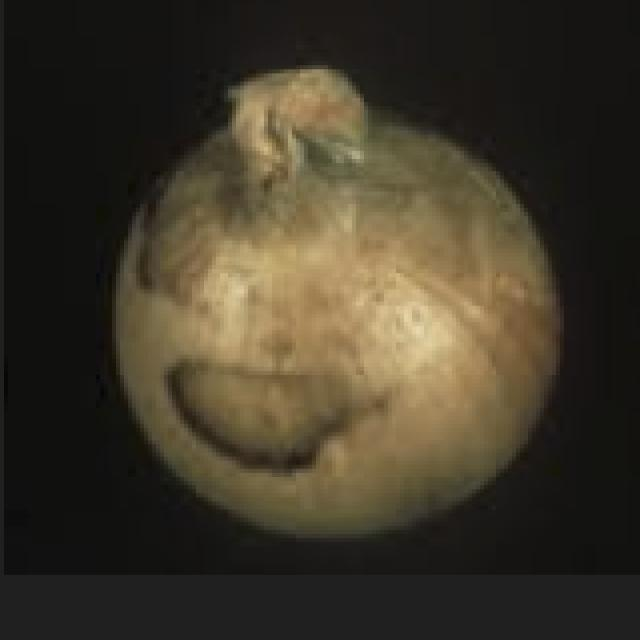mechanical_damage: (116, 65, 556, 534)
